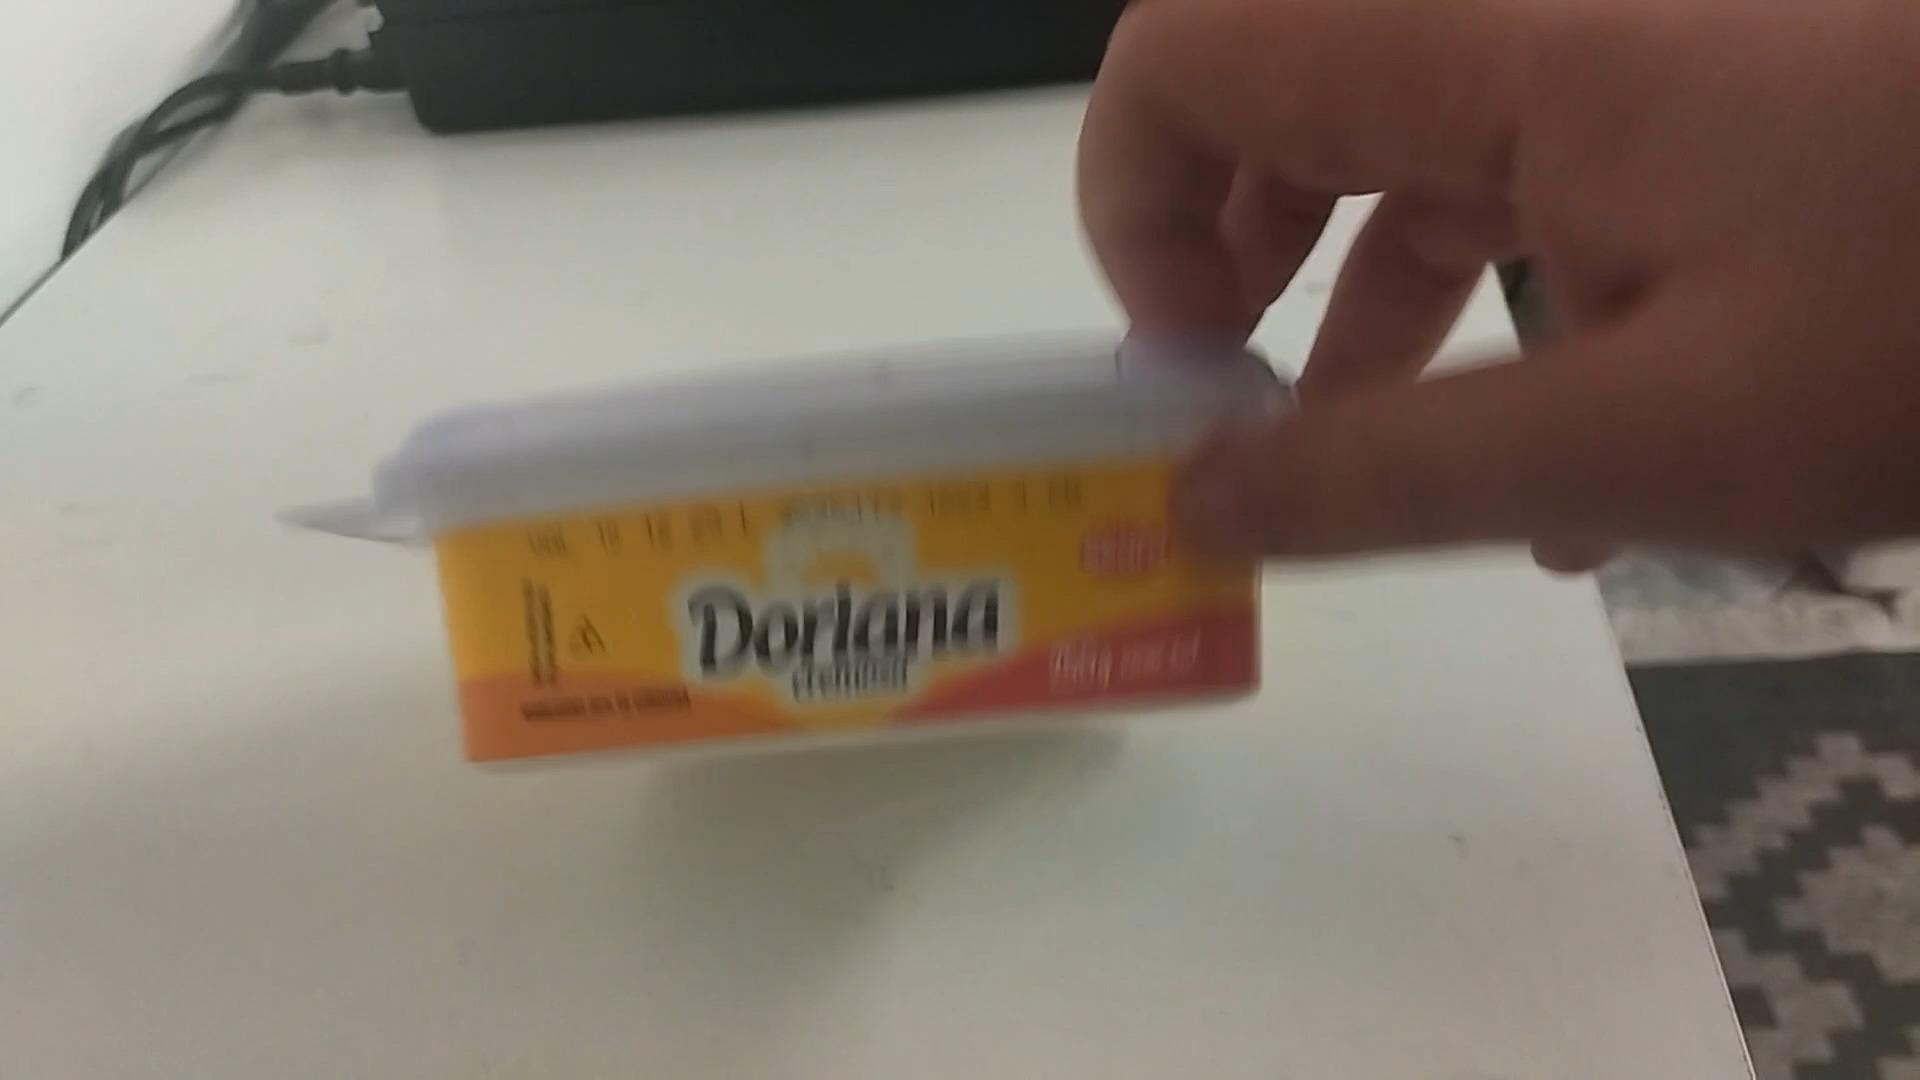butter: (276, 344, 1299, 785)
